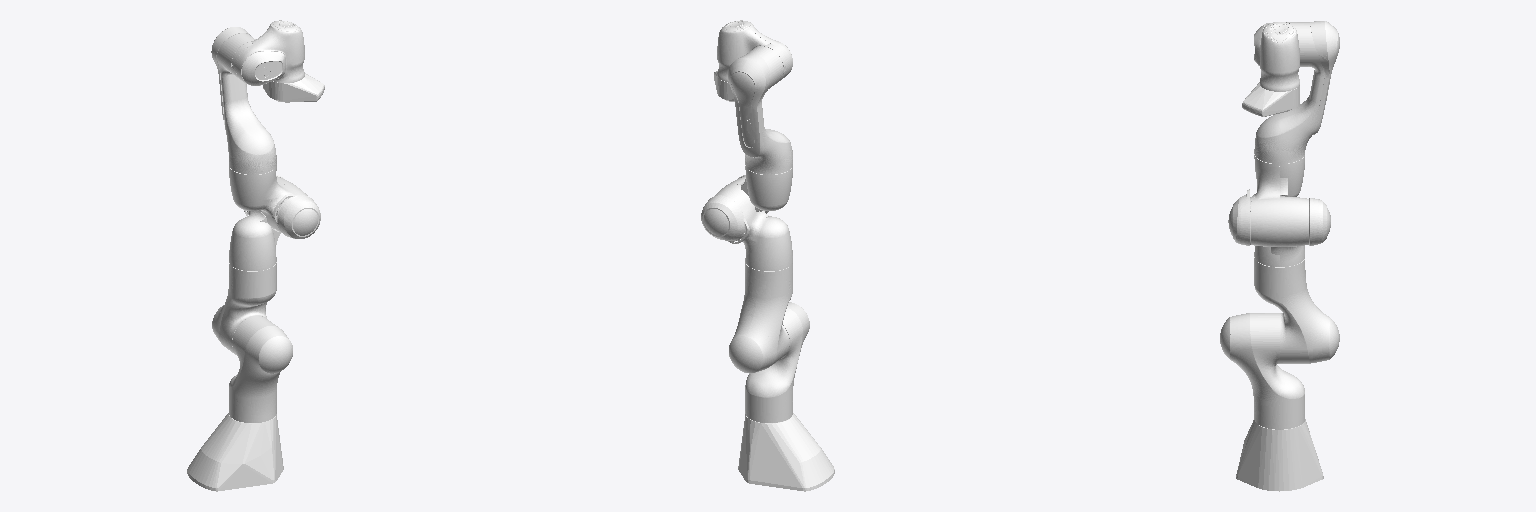
robot.urdf — panda:
<?xml version="1.0" ?>
<!-- =================================================================================== -->
<!-- |    This document was autogenerated by xacro from panda_arm_hand.urdf.xacro      | -->
<!-- |    EDITING THIS FILE BY HAND IS NOT RECOMMENDED                                 | -->
<!-- =================================================================================== -->
<robot name="panda" xmlns:xacro="http://www.ros.org/wiki/xacro">
  <link name="panda_link0">
  	<inertial>
      <origin rpy="0 0 0" xyz="0 0 0.0"/>
       <mass value="2.9"/>
       <inertia ixx="0.1" ixy="0" ixz="0" iyy="0.1" iyz="0" izz="0.1"/>
    </inertial>
    <visual>
      <geometry>
        <mesh filename="package://meshes/collision/link0.obj"/>
      </geometry>
      <material name="panda_white">
    		<color rgba="1. 1. 1. 1."/>
  		</material>
    </visual>
    <collision>
      <geometry>
        <mesh filename="package://meshes/collision/link0.obj"/>
      </geometry>
      <material name="panda_white"/>
    </collision>
  </link>
  <link name="panda_link1">
  	<inertial>
      <origin rpy="0 0 0" xyz="0 -0.04 -0.05"/>
       <mass value="2.7"/>
       <inertia ixx="0.1" ixy="0" ixz="0" iyy="0.1" iyz="0" izz="0.1"/>
    </inertial>
    <visual>
      <geometry>
        <mesh filename="package://meshes/visual/link1.obj"/>
      </geometry>
      <material name="panda_white"/>
    </visual>
    <collision>
      <geometry>
        <mesh filename="package://meshes/collision/link1.obj"/>
      </geometry>
      <material name="panda_white"/>
    </collision>
  </link>
  <joint name="panda_joint1" type="revolute">
    <safety_controller k_position="100.0" k_velocity="40.0" soft_lower_limit="-2.8973" soft_upper_limit="2.8973"/>
    <origin rpy="0 0 0" xyz="0 0 0.333"/>
    <parent link="panda_link0"/>
    <child link="panda_link1"/>
    <axis xyz="0 0 1"/>
    <limit effort="87" lower="-2.9671" upper="2.9671" velocity="2.1750"/>
  </joint>
  <link name="panda_link2">
  	<inertial>
      <origin rpy="0 0 0" xyz="0 -0.04 0.06"/>
       <mass value="2.73"/>
       <inertia ixx="0.1" ixy="0" ixz="0" iyy="0.1" iyz="0" izz="0.1"/>
    </inertial>
    <visual>
      <geometry>
        <mesh filename="package://meshes/visual/link2.obj"/>
      </geometry>
      <material name="panda_white"/>
    </visual>
    <collision>
      <geometry>
        <mesh filename="package://meshes/collision/link2.obj"/>
      </geometry>
      <material name="panda_white"/>
    </collision>
  </link>
  <joint name="panda_joint2" type="revolute">
    <safety_controller k_position="100.0" k_velocity="40.0" soft_lower_limit="-1.7628" soft_upper_limit="1.7628"/>
    <origin rpy="-1.57079632679 0 0" xyz="0 0 0"/>
    <parent link="panda_link1"/>
    <child link="panda_link2"/>
    <axis xyz="0 0 1"/>
    <limit effort="87" lower="-1.8326" upper="1.8326" velocity="2.1750"/>
  </joint>
  <link name="panda_link3">
	  <inertial>
      <origin rpy="0 0 0" xyz="0.01 0.01 -0.05"/>
       <mass value="2.04"/>
       <inertia ixx="0.1" ixy="0" ixz="0" iyy="0.1" iyz="0" izz="0.1"/>
    </inertial>
    <visual>
      <geometry>
        <mesh filename="package://meshes/visual/link3.obj"/>
      </geometry>
      <material name="panda_red">
    		<color rgba="1. 1. 1. 1."/>
  		</material>
    </visual>
    <collision>
      <geometry>
        <mesh filename="package://meshes/collision/link3.obj"/>
      </geometry>
    </collision>
  </link>
  <joint name="panda_joint3" type="revolute">
    <safety_controller k_position="100.0" k_velocity="40.0" soft_lower_limit="-2.8973" soft_upper_limit="2.8973"/>
    <origin rpy="1.57079632679 0 0" xyz="0 -0.316 0"/>
    <parent link="panda_link2"/>
    <child link="panda_link3"/>
    <axis xyz="0 0 1"/>
    <limit effort="87" lower="-2.9671" upper="2.9671" velocity="2.1750"/>
  </joint>
  <link name="panda_link4">
  	<inertial>
      <origin rpy="0 0 0" xyz="-0.03 0.03 0.02"/>
       <mass value="2.08"/>
       <inertia ixx="0.1" ixy="0" ixz="0" iyy="0.1" iyz="0" izz="0.1"/>
    </inertial>
    <visual>
      <geometry>
        <mesh filename="package://meshes/visual/link4.obj"/>
      </geometry>
      <material name="panda_white"/>
    </visual>
    <collision>
      <geometry>
        <mesh filename="package://meshes/collision/link4.obj"/>
      </geometry>
      <material name="panda_white"/>
    </collision>
  </link>
  <joint name="panda_joint4" type="revolute">
    <safety_controller k_position="100.0" k_velocity="40.0" soft_lower_limit="-3.0718" soft_upper_limit="-0.0698"/>
    <origin rpy="1.57079632679 0 0" xyz="0.0825 0 0"/>
    <parent link="panda_link3"/>
    <child link="panda_link4"/>
    <axis xyz="0 0 1"/>
    <limit effort="87" lower="-3.1416" upper="0.0" velocity="2.1750"/>
  </joint>
  <link name="panda_link5">
  	<inertial>
      <origin rpy="0 0 0" xyz="0 0.04 -0.12"/>
       <mass value="3"/>
       <inertia ixx="0.1" ixy="0" ixz="0" iyy="0.1" iyz="0" izz="0.1"/>
    </inertial>
    <visual>
      <geometry>
        <mesh filename="package://meshes/visual/link5.obj"/>
      </geometry>
      <material name="panda_white"/>
    </visual>
    <collision>
      <geometry>
        <mesh filename="package://meshes/collision/link5.obj"/>
      </geometry>
      <material name="panda_white"/>
    </collision>
  </link>
  <joint name="panda_joint5" type="revolute">
    <safety_controller k_position="100.0" k_velocity="40.0" soft_lower_limit="-2.8973" soft_upper_limit="2.8973"/>
    <origin rpy="-1.57079632679 0 0" xyz="-0.0825 0.384 0"/>
    <parent link="panda_link4"/>
    <child link="panda_link5"/>
    <axis xyz="0 0 1"/>
    <limit effort="12" lower="-2.9671" upper="2.9671" velocity="2.6100"/>
  </joint>
  <link name="panda_link6">
  	<inertial>
      <origin rpy="0 0 0" xyz="0.04 0 0"/>
       <mass value="1.3"/>
       <inertia ixx="0.1" ixy="0" ixz="0" iyy="0.1" iyz="0" izz="0.1"/>
    </inertial>
    <visual>
      <geometry>
        <mesh filename="package://meshes/visual/link6.obj"/>
      </geometry>
      <material name="panda_white"/>
    </visual>
    <collision>
      <geometry>
        <mesh filename="package://meshes/collision/link6.obj"/>
      </geometry>
      <material name="panda_white"/>
    </collision>
  </link>
  <joint name="panda_joint6" type="revolute">
    <safety_controller k_position="100.0" k_velocity="40.0" soft_lower_limit="-0.0175" soft_upper_limit="3.7525"/>
    <origin rpy="1.57079632679 0 0" xyz="0 0 0"/>
    <parent link="panda_link5"/>
    <child link="panda_link6"/>
    <axis xyz="0 0 1"/>
    <limit effort="12" lower="-0.0873" upper="3.8223" velocity="2.6100"/>
  </joint>
  <link name="panda_link7">
  	<inertial>
      <origin rpy="0 0 0" xyz="0 0 0.08"/>
       <mass value=".2"/>
       <inertia ixx="0.1" ixy="0" ixz="0" iyy="0.1" iyz="0" izz="0.1"/>
    </inertial>
    <visual>
      <geometry>
        <mesh filename="package://meshes/collision/link7.obj"/>
      </geometry>
      <material name="panda_white"/>
    </visual>
    <collision>
      <geometry>
        <mesh filename="package://meshes/collision/link7.obj"/>
      </geometry>
      <material name="panda_white"/>
    </collision>
  </link>
  <joint name="panda_joint7" type="revolute">
    <safety_controller k_position="100.0" k_velocity="40.0" soft_lower_limit="-2.8973" soft_upper_limit="2.8973"/>
    <origin rpy="1.57079632679 0 0" xyz="0.088 0 0"/>
    <parent link="panda_link6"/>
    <child link="panda_link7"/>
    <axis xyz="0 0 1"/>
    <limit effort="12" lower="-2.9671" upper="2.9671" velocity="2.6100"/>
  </joint>
  <link name="panda_link8">
  	 <inertial>
      <origin rpy="0 0 0" xyz="0 0 0"/>
       <mass value="0.0"/>
       <inertia ixx="0.1" ixy="0" ixz="0" iyy="0.1" iyz="0" izz="0.1"/>
    </inertial>
  </link>
  <joint name="panda_joint8" type="fixed">
    <origin rpy="0 0 0" xyz="0 0 0.107"/>
    <parent link="panda_link7"/>
    <child link="panda_link8"/>
    <axis xyz="0 0 0"/>
  </joint>
  <joint name="panda_hand_joint" type="fixed">
    <parent link="panda_link8"/>
    <child link="panda_hand"/>
    <origin rpy="0 0 -0.785398163397" xyz="0 0 0"/>
  </joint>
  <link name="panda_hand">
  	<inertial>
      <origin rpy="0 0 0" xyz="0 0 0.04"/>
       <mass value=".81"/>
       <inertia ixx="0.1" ixy="0" ixz="0" iyy="0.1" iyz="0" izz="0.1"/>
    </inertial>
    <!-- <visual>
      <geometry>
        <mesh filename="package://meshes/visual/hand.obj"/>
      </geometry>
      <material name="panda_white"/>
    </visual>
    <collision>
      <geometry>
        <mesh filename="package://meshes/collision/hand.obj"/>
      </geometry>
      <material name="panda_white"/>
    </collision> -->
  </link>
  <link name="panda_grasptarget">
    <inertial>
      <origin rpy="0 0 0" xyz="0 0 0"/>
       <mass value="0.0"/>
       <inertia ixx="0.1" ixy="0" ixz="0" iyy="0.1" iyz="0" izz="0.1"/>
    </inertial>
   </link>
   <joint name="panda_grasptarget_hand" type="fixed">
    <parent link="panda_hand"/>
    <child link="panda_grasptarget"/>
    <origin rpy="0 0 0" xyz="0 0.0 0.165"/>
  </joint>  
</robot>

--- Render facts (derived) ---
3 views of the same robot in one strip: view 1: azimuth 30°, elevation 25°; view 2: azimuth 150°, elevation 25°; view 3: azimuth 270°, elevation 25° (orthographic).
Model panda with 11 links and 10 joints (7 revolute, 3 fixed), rooted at panda_link0, posed every joint at zero.
Visible links, largest first — view 1: panda_link0, panda_link1, panda_link5, panda_link4, panda_link6, panda_link2, panda_link3, panda_link7; view 2: panda_link0, panda_link5, panda_link2, panda_link3, panda_link1, panda_link6, panda_link4; view 3: panda_link1, panda_link5, panda_link2, panda_link0, panda_link4, panda_link3, panda_link6, panda_link7.
Boxes of the visible links, box(x1,y1,x2,y2) form: panda_link0: box(187, 413, 283, 491); panda_link1: box(229, 316, 292, 422); panda_link5: box(211, 27, 276, 174); panda_link4: box(229, 166, 320, 238); panda_link6: box(232, 20, 304, 85); panda_link2: box(212, 262, 276, 354); panda_link3: box(229, 175, 295, 270); panda_link7: box(263, 73, 324, 102); panda_link0: box(738, 413, 834, 491); panda_link5: box(728, 46, 792, 174); panda_link2: box(729, 262, 792, 373); panda_link3: box(701, 184, 792, 270); panda_link1: box(745, 302, 809, 422); panda_link6: box(717, 20, 792, 82); panda_link4: box(726, 165, 792, 213); panda_link1: box(1220, 313, 1304, 429); panda_link5: box(1254, 21, 1339, 163); panda_link2: box(1254, 257, 1339, 363); panda_link0: box(1236, 419, 1323, 491); panda_link4: box(1228, 154, 1304, 246); panda_link3: box(1254, 196, 1330, 266); panda_link6: box(1254, 22, 1299, 91); panda_link7: box(1242, 82, 1299, 116).
Bounding box of the posed robot: 0.3234 × 0.2593 × 1.11 m (x, y, z).
Meshes: 8 distinct files referenced, 8 mesh visuals loaded (8 OBJ).